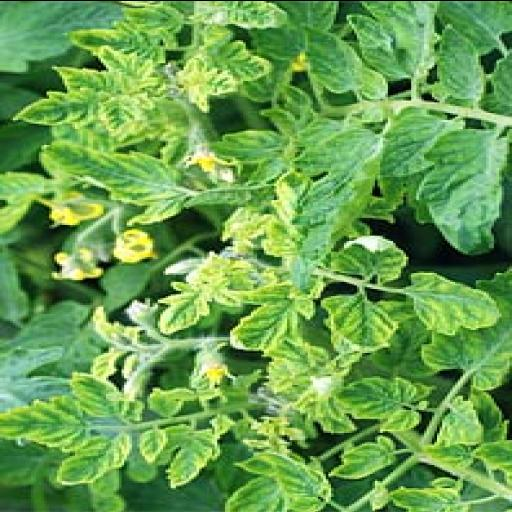Yellow Leaf Curl Virus: (44, 136, 204, 222), (406, 269, 504, 335), (334, 370, 432, 432), (320, 288, 406, 358), (228, 294, 312, 358), (5, 394, 101, 446), (260, 439, 335, 505), (60, 428, 134, 488), (163, 416, 225, 484), (150, 276, 212, 340), (184, 38, 274, 82), (70, 23, 163, 64), (18, 88, 100, 132), (336, 233, 408, 283), (326, 436, 397, 480), (67, 362, 124, 412)
